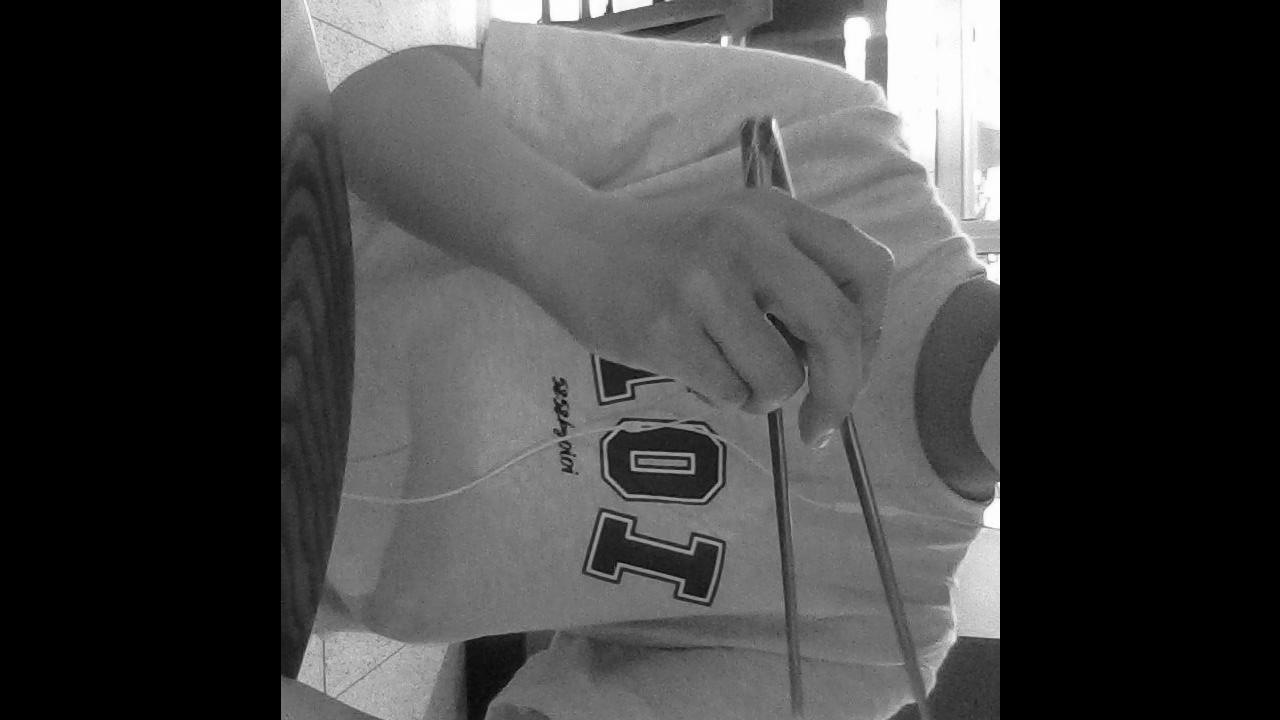chopstick: (755, 116, 933, 720), (738, 121, 803, 720)
hand: (557, 188, 893, 449)
